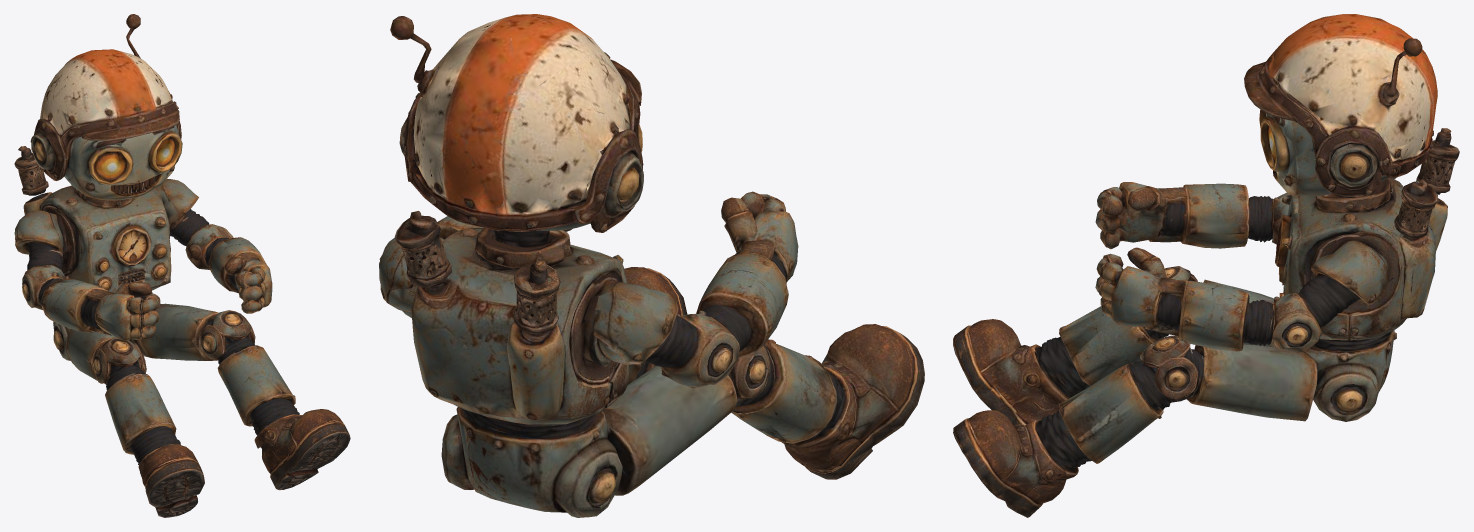
File: robot.glb
3 renders of one model, left to right at view 1: azimuth 30°, elevation 25°; view 2: azimuth 150°, elevation 25°; view 3: azimuth 270°, elevation 25°, orthographic. The views are drawn at different scales.
Size of the model in its own units: 1.16 by 1.9 by 1.85.
Materials: 1 (1 with a texture image).
